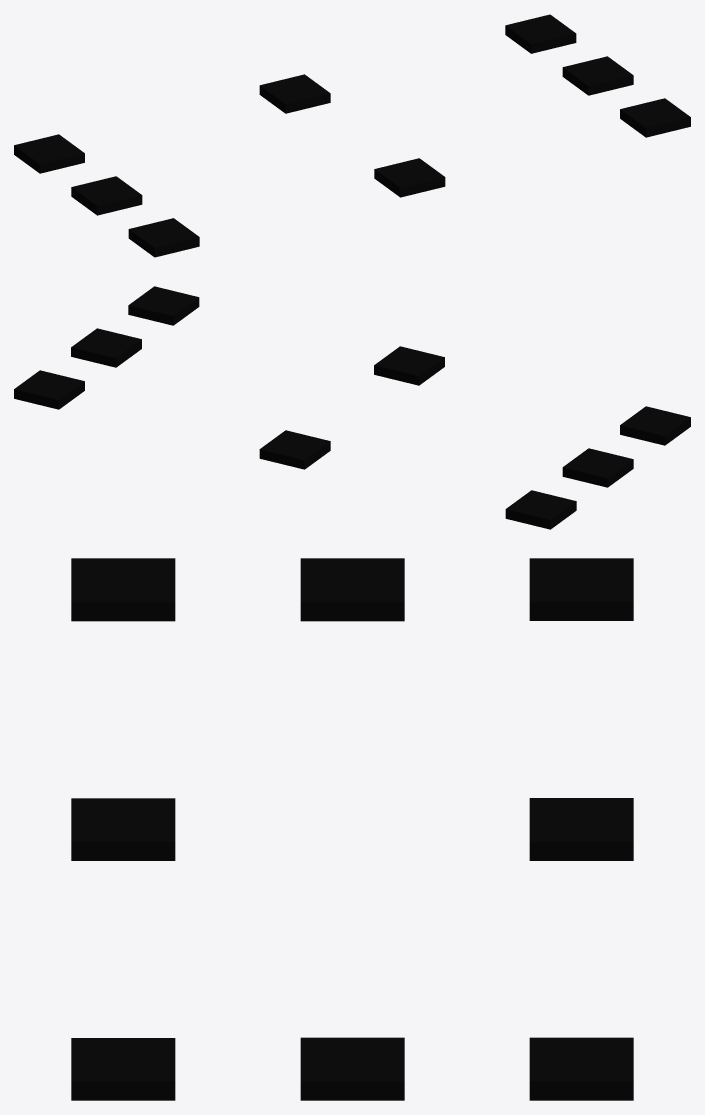
Rendered from LeguLeteron-Bottom_Pad.fbx.
3 views of the same model, one above another, from view 1: azimuth 30°, elevation 25°; view 2: azimuth 150°, elevation 25°; view 3: azimuth 270°, elevation 25° (orthographic). The views are drawn at different scales.
Parts seen in each view (by area): view 1: node_id6002 (×8); view 2: node_id6002 (×8); view 3: node_id6002 (×8).
Part boxes in pixels (left/top/right/bottom): node_id6002 (×8): left=14, top=14, right=690, bottom=257; node_id6002 (×8): left=14, top=286, right=690, bottom=529; node_id6002 (×8): left=71, top=558, right=633, bottom=1100.
Bounding box in the file's own units: 2.12 × 0.0359 × 0.962.
8 materials, 8 textured.
